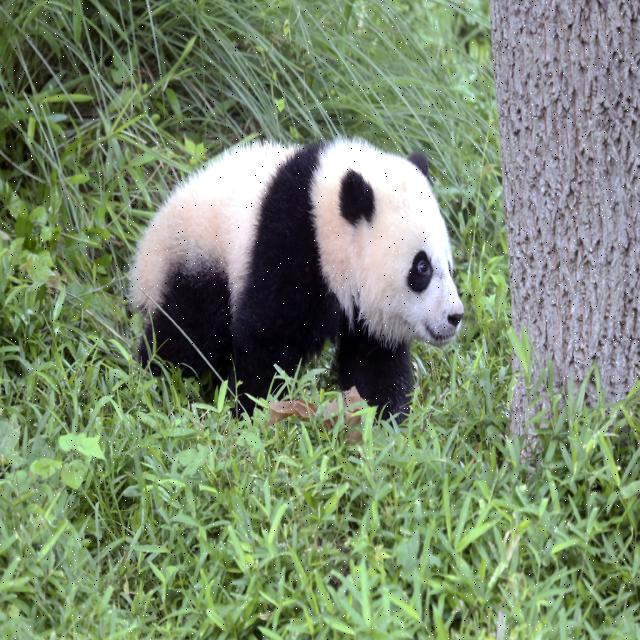panda: (122, 134, 466, 435)
